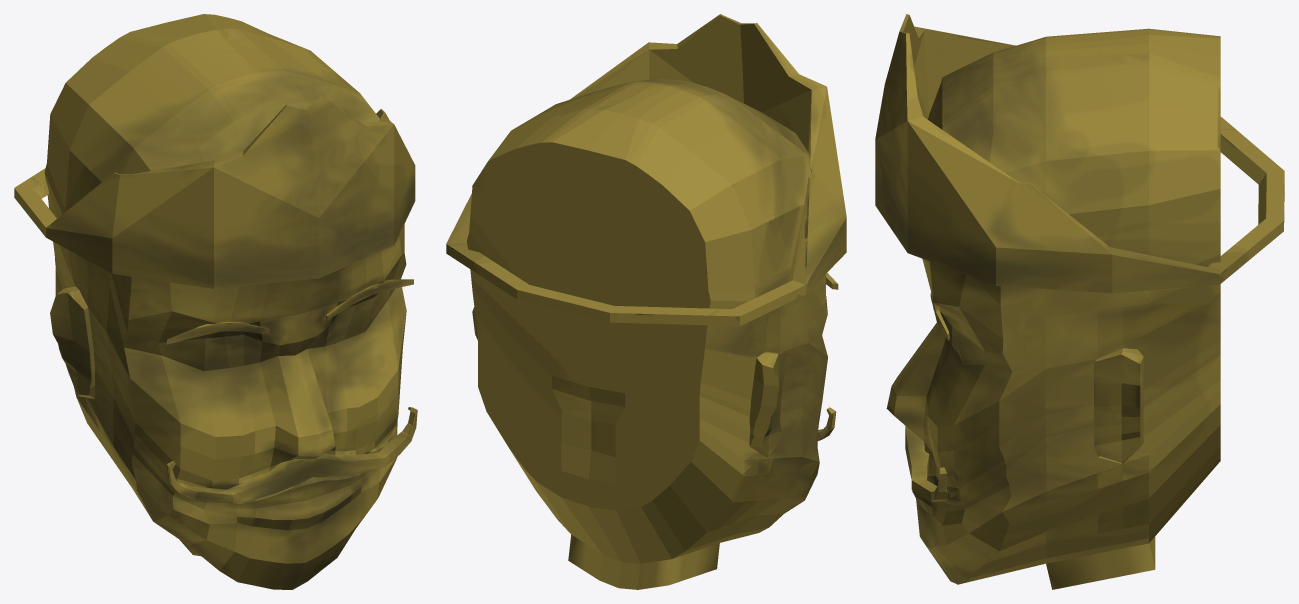
The model's file is f_head_3.fbx.
The picture shows the model from 3 angles, left to right: view 1: azimuth 30°, elevation 25°; view 2: azimuth 150°, elevation 25°; view 3: azimuth 270°, elevation 25°; orthographic projection. The views are drawn at different scales.
Parts seen in each view (by area): view 1: Cube.001; view 2: Cube.001; view 3: Cube.001.
Part boxes in pixels (<box>): Cube.001: <box>14,14,417,589</box>; Cube.001: <box>446,14,846,589</box>; Cube.001: <box>875,14,1284,589</box>.
Size of the model in its own units: 95.62 by 141 by 94.73.
Materials: 1 (1 with a texture image).
